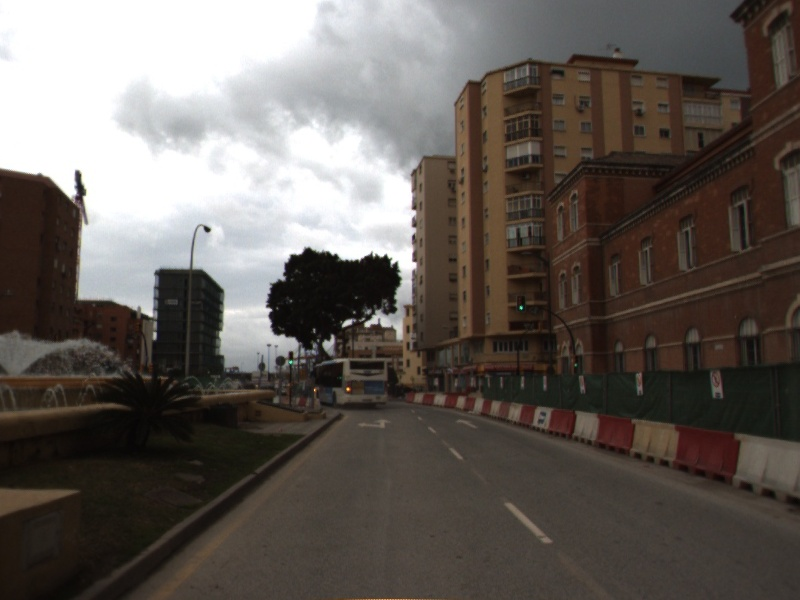STRAIGHT: (454, 417, 481, 431)
STRAIGHT_LEFT: (355, 417, 394, 430)
